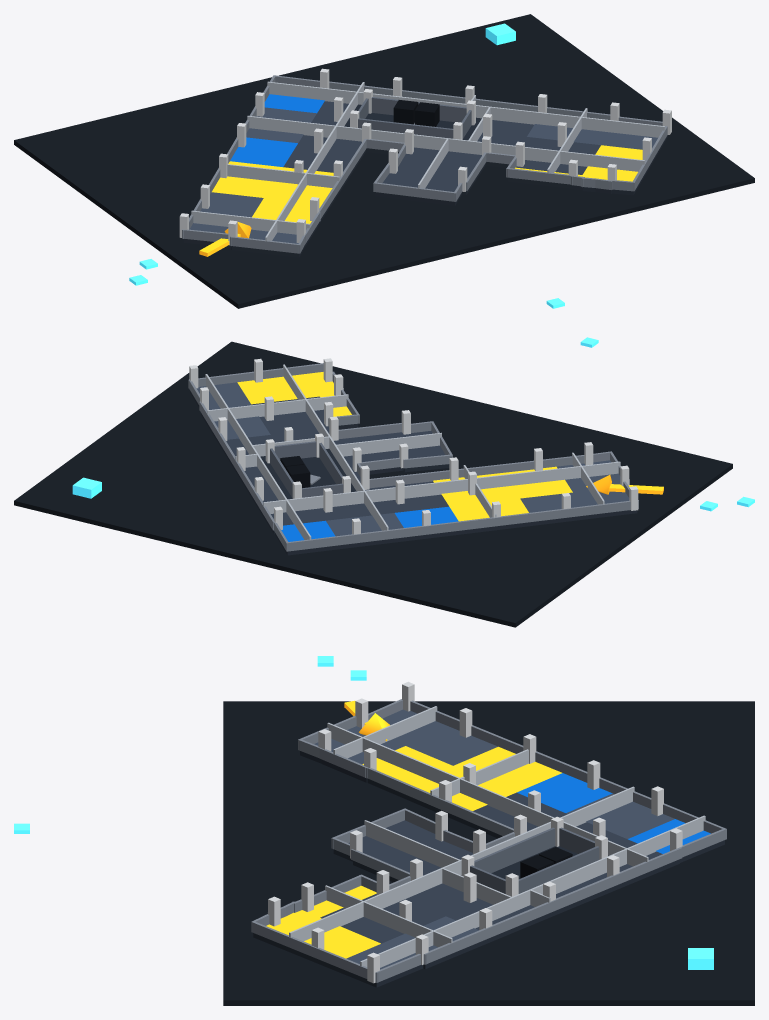
3 views of the same model, one above another, from view 1: azimuth 30°, elevation 25°; view 2: azimuth 150°, elevation 25°; view 3: azimuth 270°, elevation 25° (orthographic). The views are drawn at different scales.
Visible parts, largest first — view 1: FireSight 140 New Montgomery St floor 20; view 2: FireSight 140 New Montgomery St floor 20; view 3: FireSight 140 New Montgomery St floor 20.
Boxes of the visible parts, x1,y1,x2,y2 form: FireSight 140 New Montgomery St floor 20: (14,14,754,308); FireSight 140 New Montgomery St floor 20: (14,337,754,627); FireSight 140 New Montgomery St floor 20: (14,656,754,1005).
Size of the model in its own units: 0.7889 by 0.043 by 0.7372.
